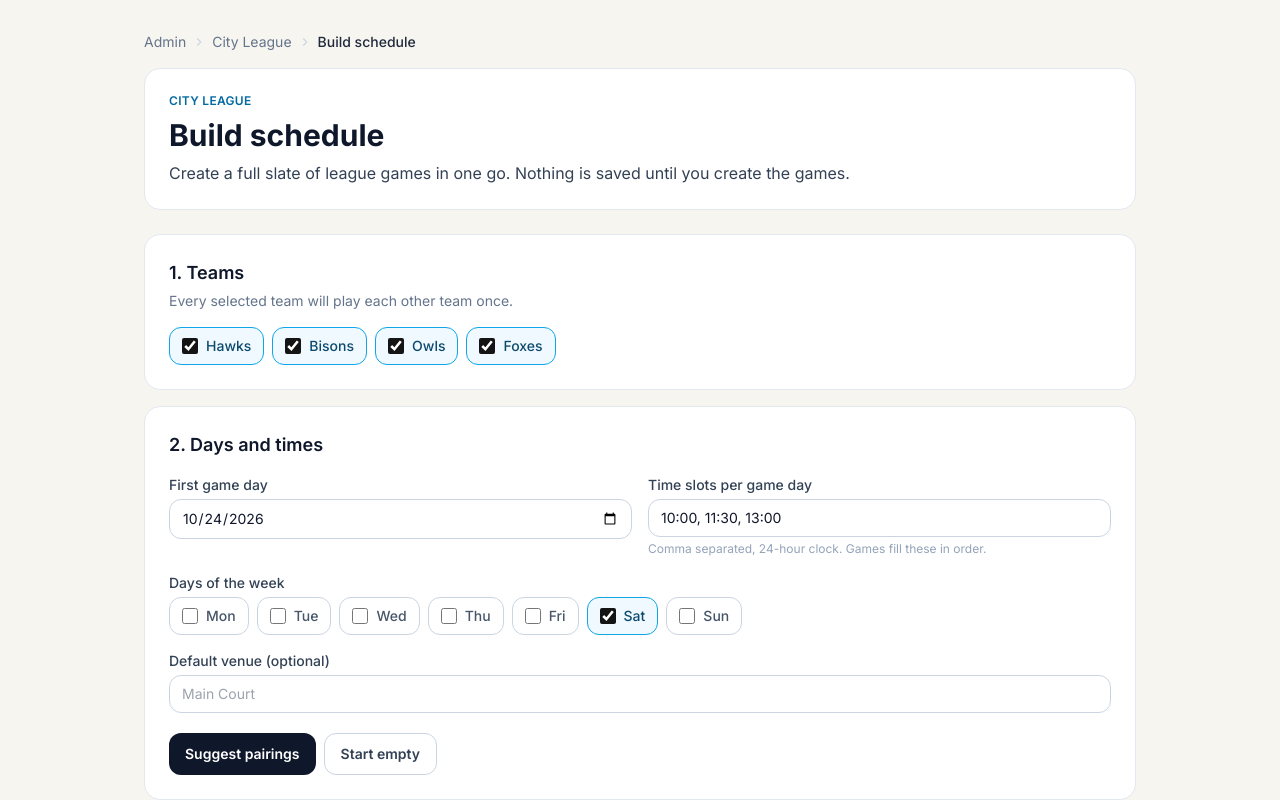
AdminLeagueSchedulePage › starts an empty draft and adds a game by hand
Click the button "Start empty": (380, 754) 324,733 -> 437,775
(page scrolled)
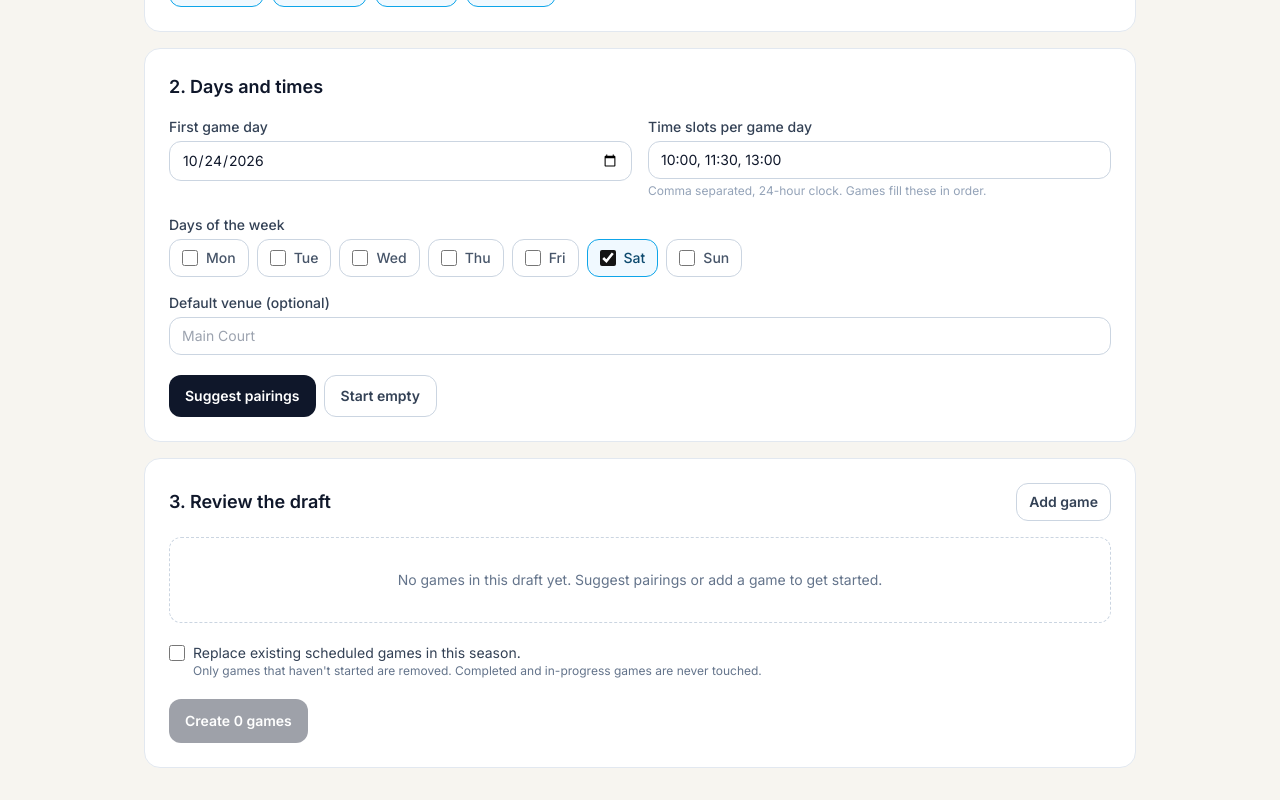
Expected: the text "No games" is shown, 398,571 -> 882,588
Click the button "Add game": (1064, 502) 1016,483 -> 1111,521
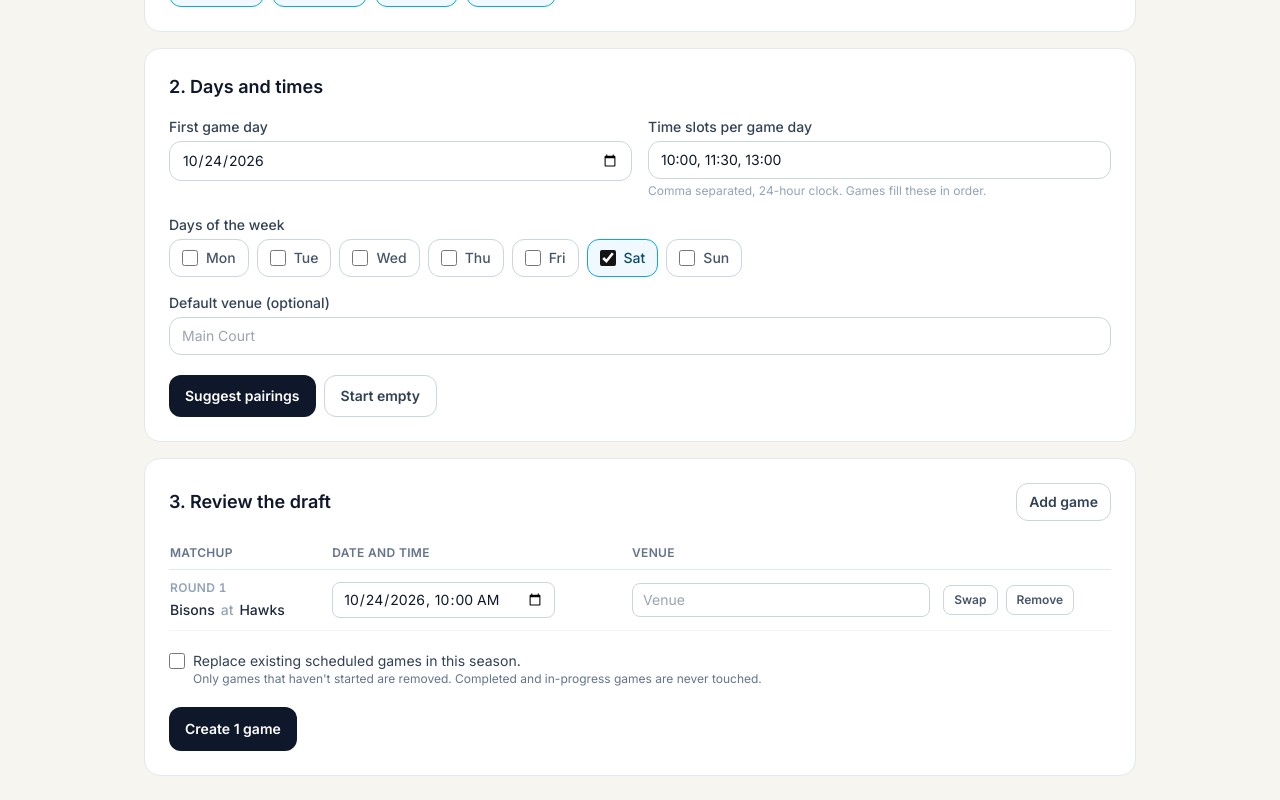
Expected: the button "Create 1 game" is shown, 169,707 -> 297,751
